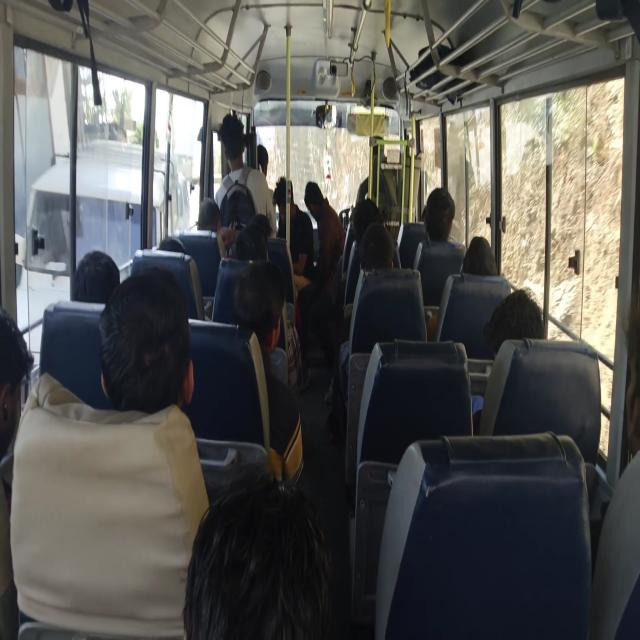person: (181, 466, 329, 640), (98, 270, 194, 418), (0, 302, 33, 490), (484, 288, 545, 361), (232, 260, 284, 344), (621, 298, 640, 470), (72, 249, 120, 307), (358, 220, 394, 271), (423, 187, 455, 244), (232, 220, 271, 264), (352, 196, 382, 248), (462, 235, 498, 277), (272, 175, 298, 221), (217, 112, 245, 153), (302, 180, 332, 218), (197, 197, 222, 233), (248, 213, 272, 241), (157, 237, 186, 256), (256, 144, 268, 179), (421, 205, 427, 226)
